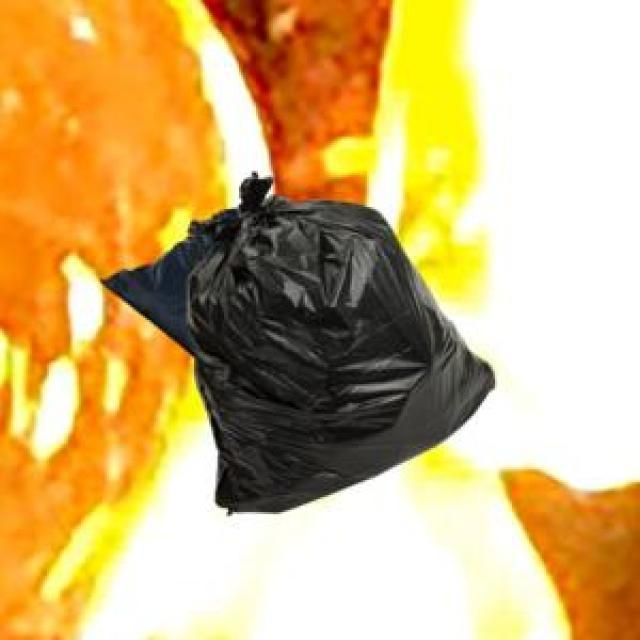Vinyl: (104, 178, 495, 512)
